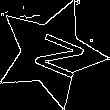N_NW: (19, 25, 82, 82)
